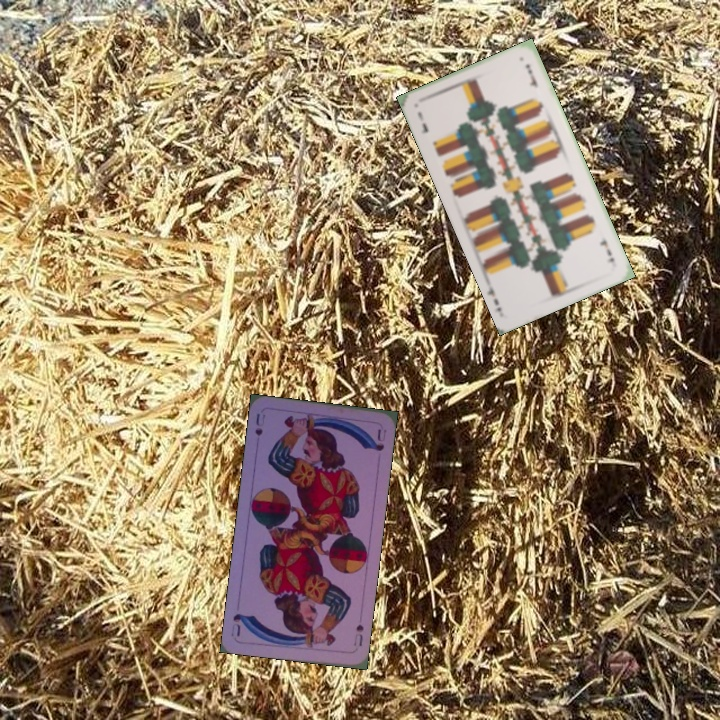E7: (596, 232, 617, 265), (414, 108, 431, 136)
SU: (251, 409, 268, 439), (349, 620, 366, 649)
